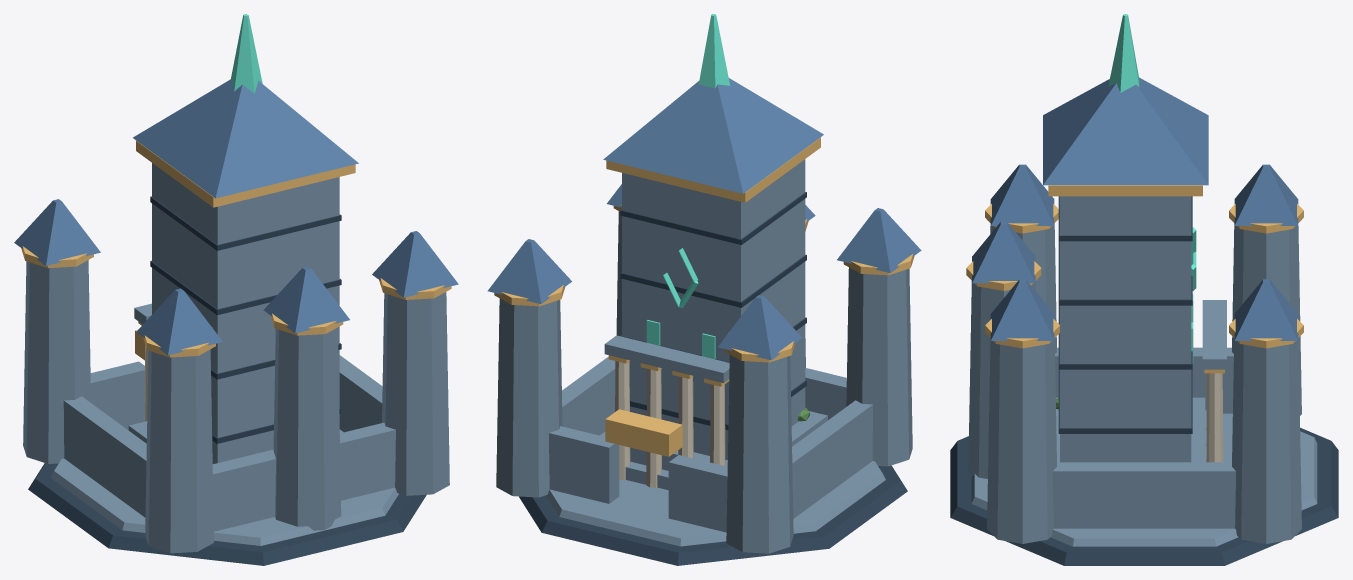
Rendered from Keep_3.fbx.
3 renders of one model, left to right at view 1: azimuth 30°, elevation 25°; view 2: azimuth 150°, elevation 25°; view 3: azimuth 270°, elevation 25°, orthographic. The views are drawn at different scales.
Visible parts, largest first — view 1: Keep_3; view 2: Keep_3; view 3: Keep_3.
Boxes of the visible parts, x1,y1,x2,y2 form: Keep_3: (14,14,458,565); Keep_3: (487,14,921,565); Keep_3: (950,14,1338,565).
Size of the model in its own units: 3.6 by 4.8 by 3.6.
